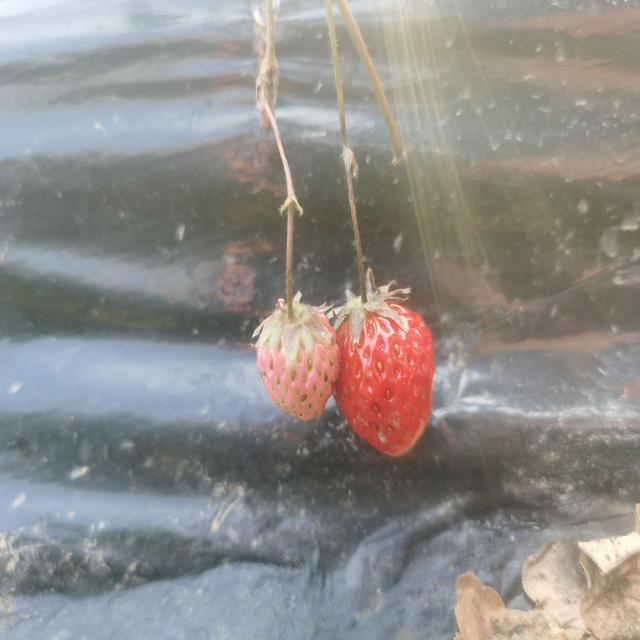stem: (287, 245, 299, 325), (355, 234, 368, 306)
strawberry: (333, 299, 434, 456), (257, 303, 341, 421)
